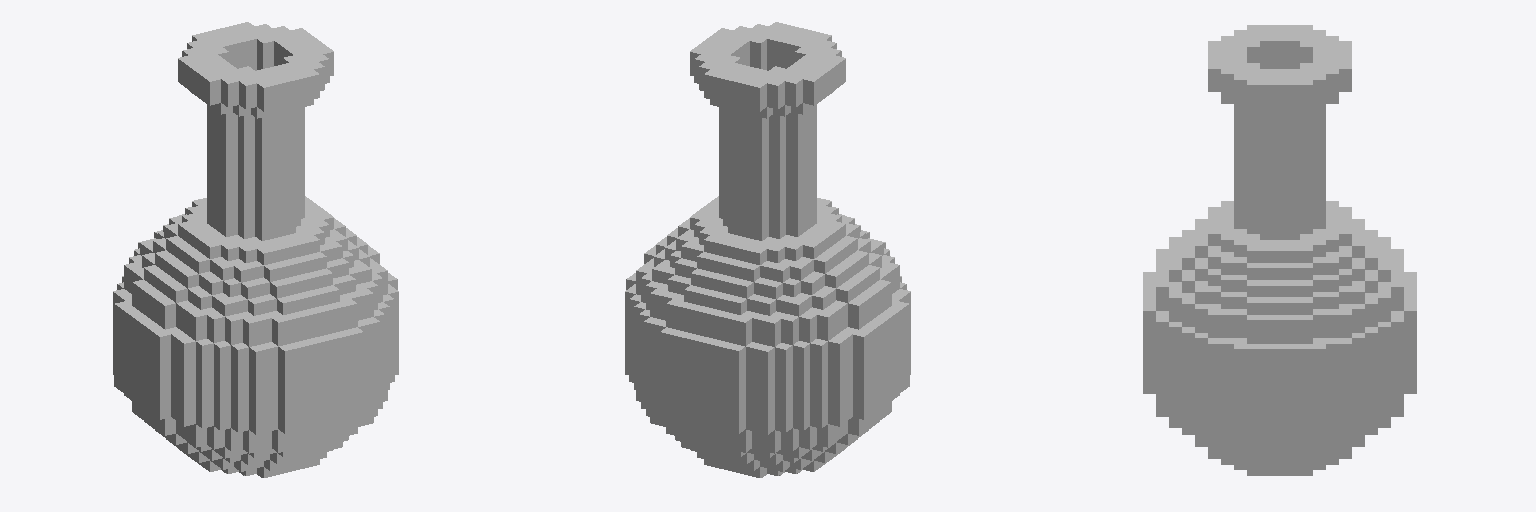
The model's file is Portion.obj.
3 renders of one model, left to right at view 1: azimuth 30°, elevation 25°; view 2: azimuth 150°, elevation 25°; view 3: azimuth 270°, elevation 25°, orthographic.
Parts seen in each view (by area): view 1: object 1; view 2: object 1; view 3: object 1.
Boxes of the visible parts, x1=… form: object 1: x1=113, y1=22, x2=398, y2=477; object 1: x1=625, y1=22, x2=910, y2=477; object 1: x1=1143, y1=25, x2=1416, y2=475.
Bounding box in the file's own units: 2.1 × 3.4 × 2.1.